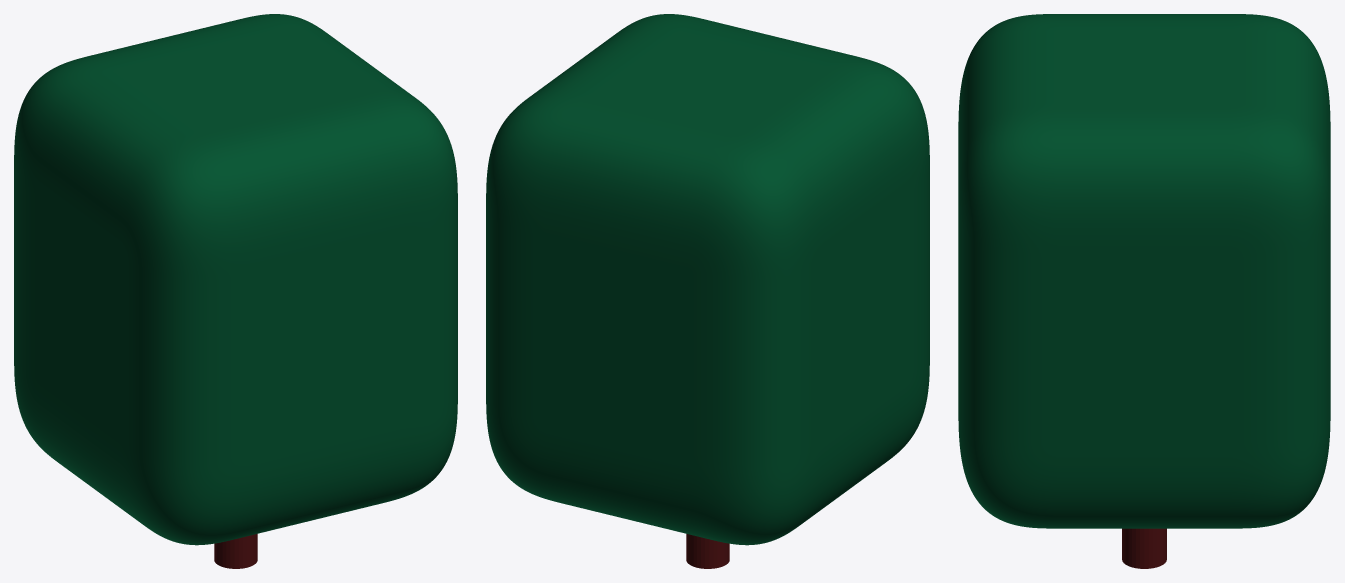
File: ArbustoC.fbx
The picture shows the model from 3 angles, left to right: view 1: azimuth 30°, elevation 25°; view 2: azimuth 150°, elevation 25°; view 3: azimuth 270°, elevation 25°; orthographic projection. The views are drawn at different scales.
Visible parts, largest first — view 1: ArbustoClaro; view 2: ArbustoClaro; view 3: ArbustoClaro.
Boxes of the visible parts, left/top/right/bottom form: ArbustoClaro: left=14, top=14, right=457, bottom=568; ArbustoClaro: left=486, top=14, right=929, bottom=568; ArbustoClaro: left=958, top=14, right=1330, bottom=568.
Size of the model in its own units: 267 by 390 by 267.
Materials: 1 (1 with a texture image).
